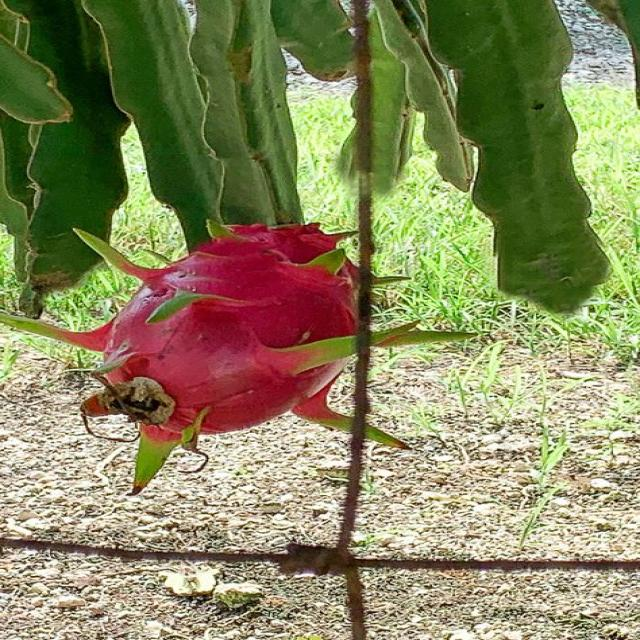Thanh Long: (63, 219, 416, 483)
